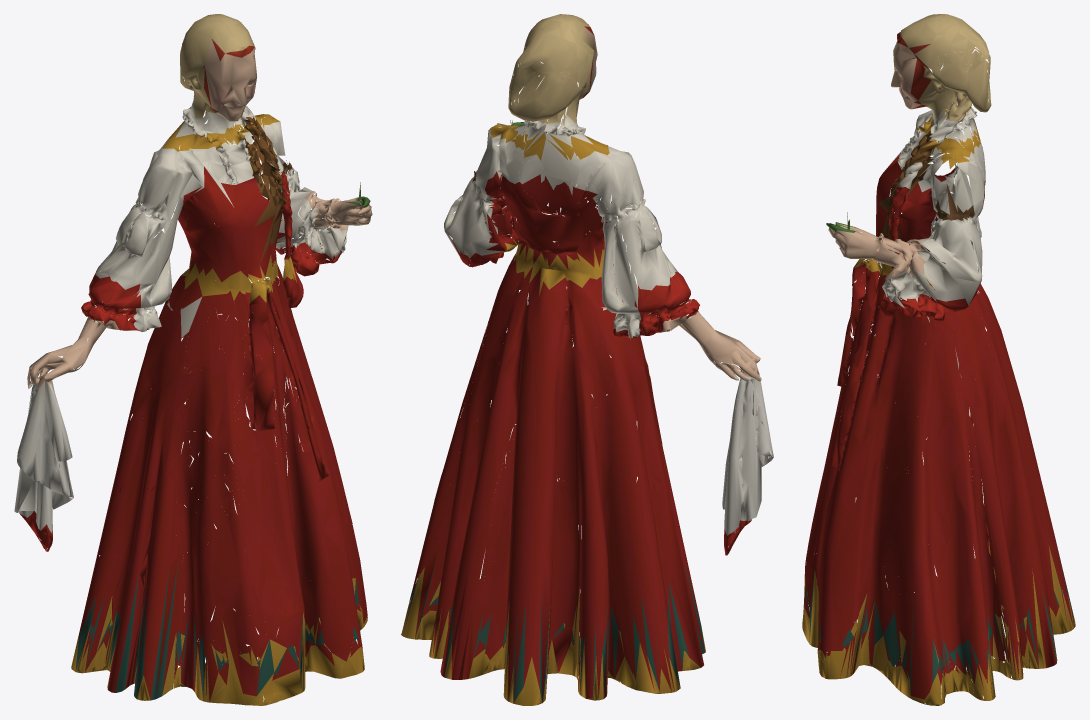
The model's file is vasilisa-mobile.glb.
The picture shows the model from 3 angles, left to right: view 1: azimuth 30°, elevation 25°; view 2: azimuth 150°, elevation 25°; view 3: azimuth 270°, elevation 25°; orthographic projection.
Visible parts, largest first — view 1: Object_6, Object_8, Object_7, Object_5, Object_9; view 2: Object_5, Object_6, Object_8, Object_9, Object_7; view 3: Object_6, Object_5, Object_8, Object_7, Object_9.
Boxes of the visible parts, left/top/right/bottom form: Object_6: left=17, top=68, right=367, bottom=705; Object_8: left=44, top=14, right=364, bottom=700; Object_7: left=20, top=54, right=372, bottom=705; Object_5: left=14, top=114, right=330, bottom=688; Object_9: left=26, top=14, right=367, bottom=637; Object_5: left=401, top=120, right=773, bottom=705; Object_6: left=409, top=60, right=773, bottom=668; Object_8: left=485, top=14, right=751, bottom=671; Object_9: left=427, top=20, right=769, bottom=681; Object_7: left=502, top=40, right=771, bottom=445; Object_6: left=802, top=50, right=1009, bottom=705; Object_5: left=832, top=125, right=1075, bottom=705; Object_8: left=838, top=14, right=989, bottom=680; Object_7: left=802, top=47, right=991, bottom=664; Object_9: left=918, top=16, right=1063, bottom=703.
Size of the model in its own units: 1.11 by 1.9 by 0.7598.
